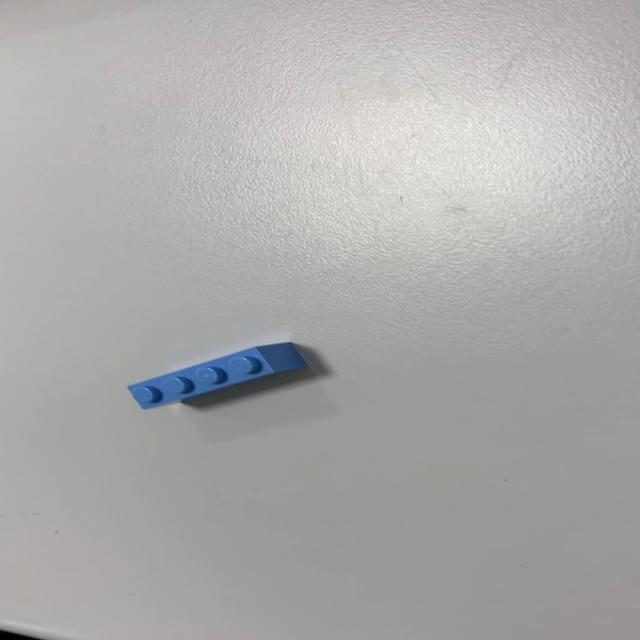C4x1x1: (125, 341, 310, 410)
